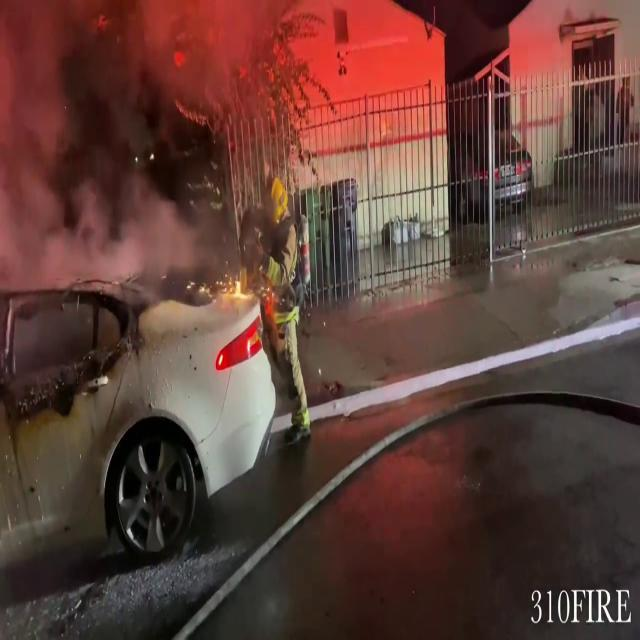Smoke: (1, 0, 218, 278)
